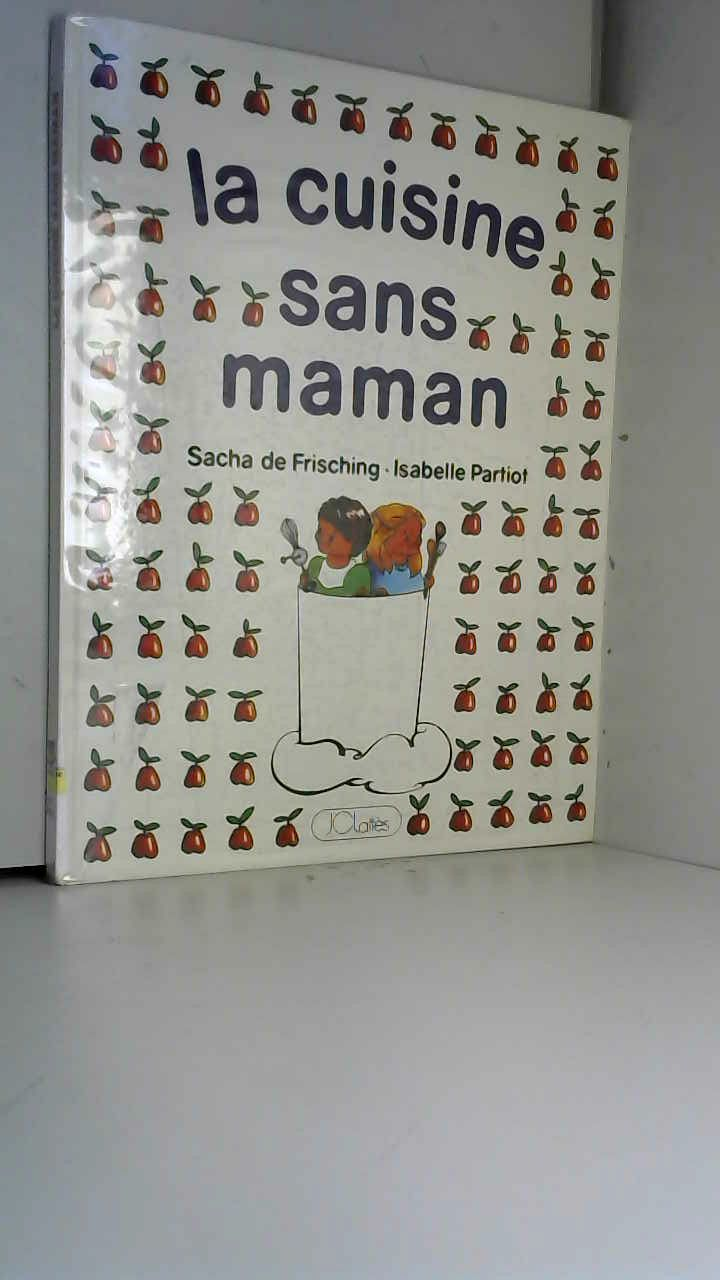book: (22, 0, 652, 926)
